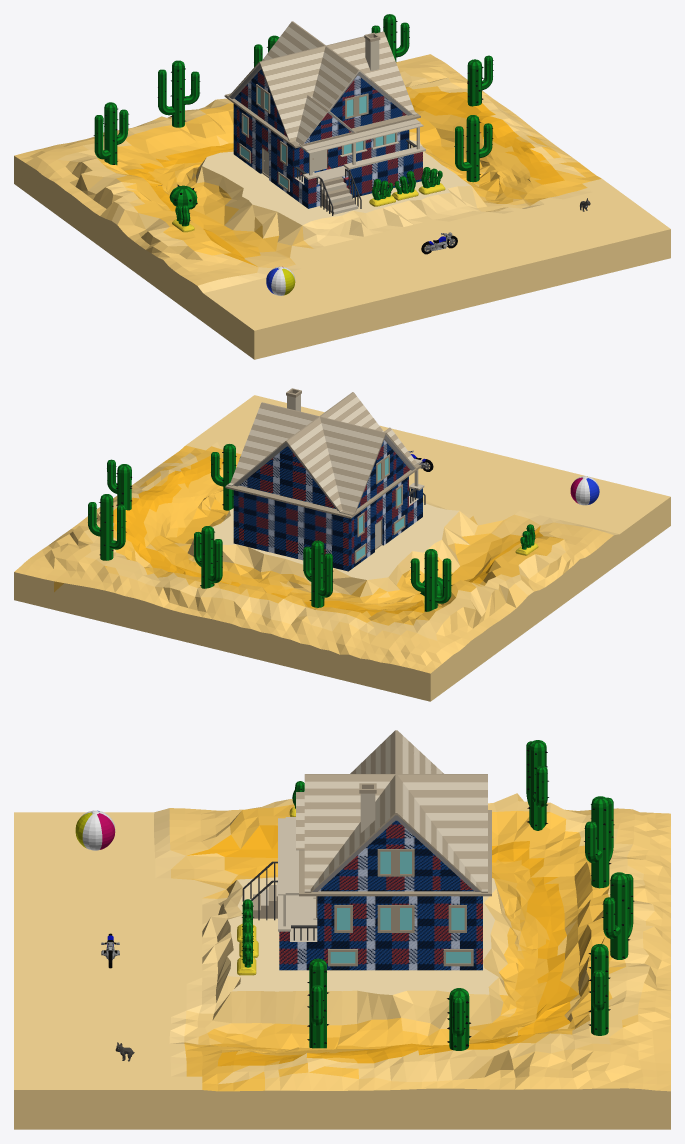
The picture shows the model from 3 angles, top to bottom: view 1: azimuth 30°, elevation 25°; view 2: azimuth 150°, elevation 25°; view 3: azimuth 270°, elevation 25°; orthographic projection. The views are drawn at different scales.
Visible parts, largest first — view 1: Cube.001, Cube.171, Cylinder.037, Cylinder.044, Cylinder.045, Cylinder.038, Cylinder.042, OBJRANDOM_BEACHBALL, Cylinder.039, Cylinder.041, Sphere.023, Cylinder.040; view 2: Cube.001, Cube.171, Cylinder.042, Cylinder.045, Cylinder.044, Cylinder.043, Cylinder.037, Cylinder.038, OBJRANDOM_BEACHBALL; view 3: Cube.001, Cube.171, Cylinder.043, Cylinder.044, Cylinder.045, Cylinder.042, Cylinder.037, OBJRANDOM_BEACHBALL, Cylinder.038, Cylinder.041.
Part boxes in pixels (bbox=[...]): Cube.001: bbox=[14, 54, 670, 359]; Cube.171: bbox=[224, 21, 425, 215]; Cylinder.037: bbox=[454, 115, 493, 182]; Cylinder.044: bbox=[157, 60, 200, 127]; Cylinder.045: bbox=[93, 102, 129, 164]; Cylinder.038: bbox=[467, 55, 493, 106]; Cylinder.042: bbox=[371, 14, 409, 62]; OBJRANDOM_BEACHBALL: bbox=[266, 266, 295, 295]; Cylinder.039: bbox=[369, 179, 395, 206]; Cylinder.041: bbox=[418, 167, 445, 194]; Sphere.023: bbox=[169, 184, 197, 209]; Cylinder.040: bbox=[392, 171, 418, 200]; Cube.001: bbox=[14, 395, 670, 701]; Cube.171: bbox=[225, 388, 425, 571]; Cylinder.042: bbox=[88, 494, 126, 560]; Cylinder.045: bbox=[410, 549, 452, 611]; Cylinder.044: bbox=[303, 540, 333, 607]; Cylinder.043: bbox=[193, 526, 222, 588]; Cylinder.037: bbox=[211, 444, 240, 510]; Cylinder.038: bbox=[107, 459, 131, 510]; OBJRANDOM_BEACHBALL: bbox=[570, 476, 599, 505]; Cube.001: bbox=[14, 793, 670, 1129]; Cube.171: bbox=[242, 730, 491, 970]; Cylinder.043: bbox=[602, 872, 634, 959]; Cylinder.044: bbox=[584, 796, 614, 888]; Cylinder.045: bbox=[526, 740, 548, 830]; Cylinder.042: bbox=[588, 944, 610, 1035]; Cylinder.037: bbox=[307, 958, 328, 1048]; OBJRANDOM_BEACHBALL: bbox=[75, 810, 115, 850]; Cylinder.038: bbox=[447, 988, 471, 1050]; Cylinder.041: bbox=[237, 932, 256, 975].
Bounding box in the file's own units: 4002 × 1728 × 4001.
Materials: 28 (3 with a texture image).
